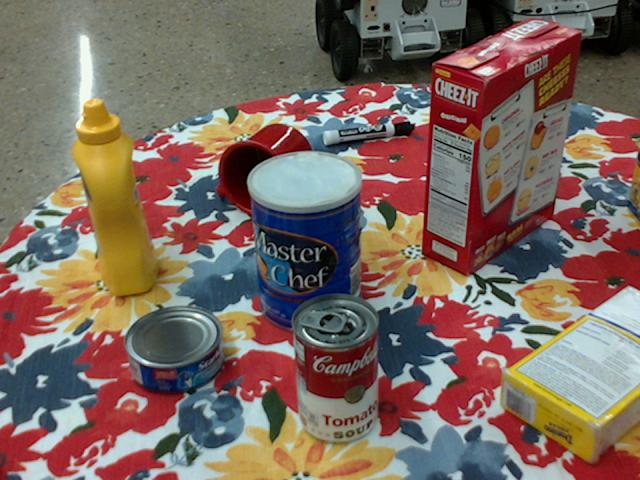cracker_box: (425, 19, 582, 275)
gelatin_box: (484, 122, 545, 173)
large_marker: (322, 119, 413, 144)
master_chef_can: (246, 150, 360, 333)
mug: (216, 123, 312, 218)
mustard_bottle: (71, 99, 158, 296)
potted_meat_can: (627, 137, 639, 222)
sugar_box: (501, 285, 639, 461)
tomato_soup_can: (290, 292, 378, 443)
tuna_fish_can: (121, 305, 221, 392)
